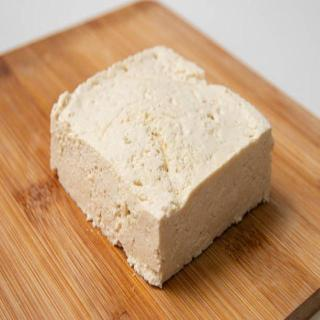Tahu: (38, 37, 293, 297)
